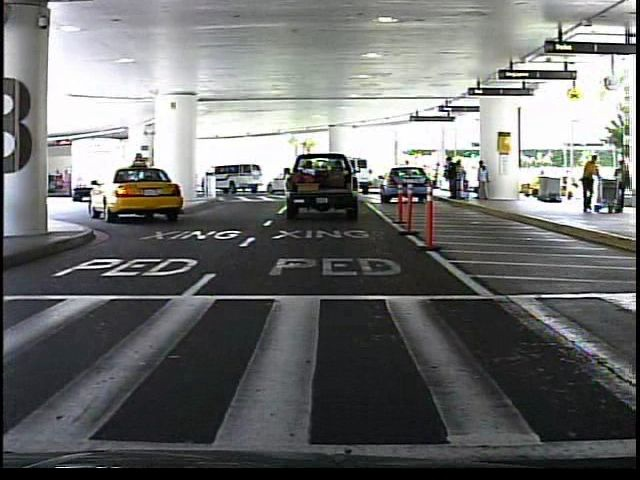person: (578, 152, 604, 217), (611, 157, 635, 214), (401, 158, 416, 193)
